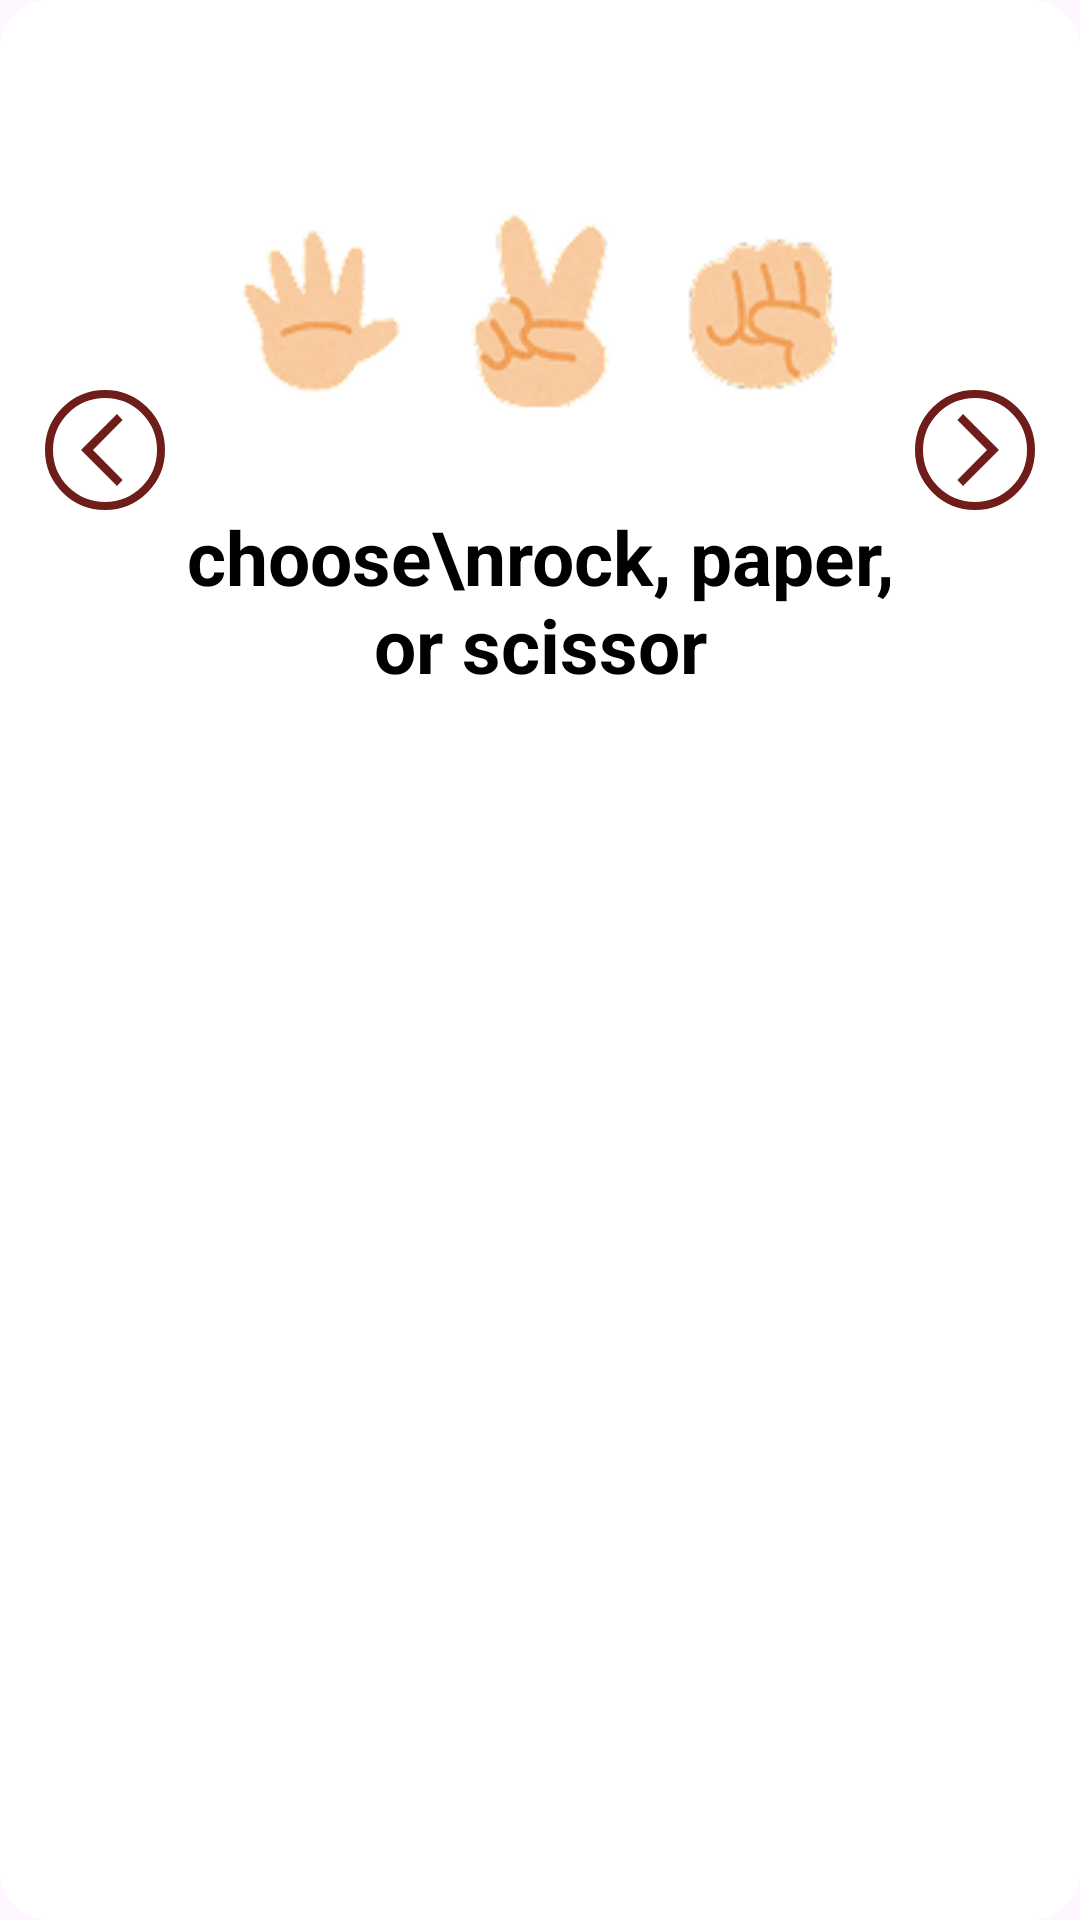

Icons on this 1080*1920 Android screen, each with its box as (x1, y1, x2, y2):
next: (915, 390, 1035, 510)
previous: (45, 390, 165, 510)
